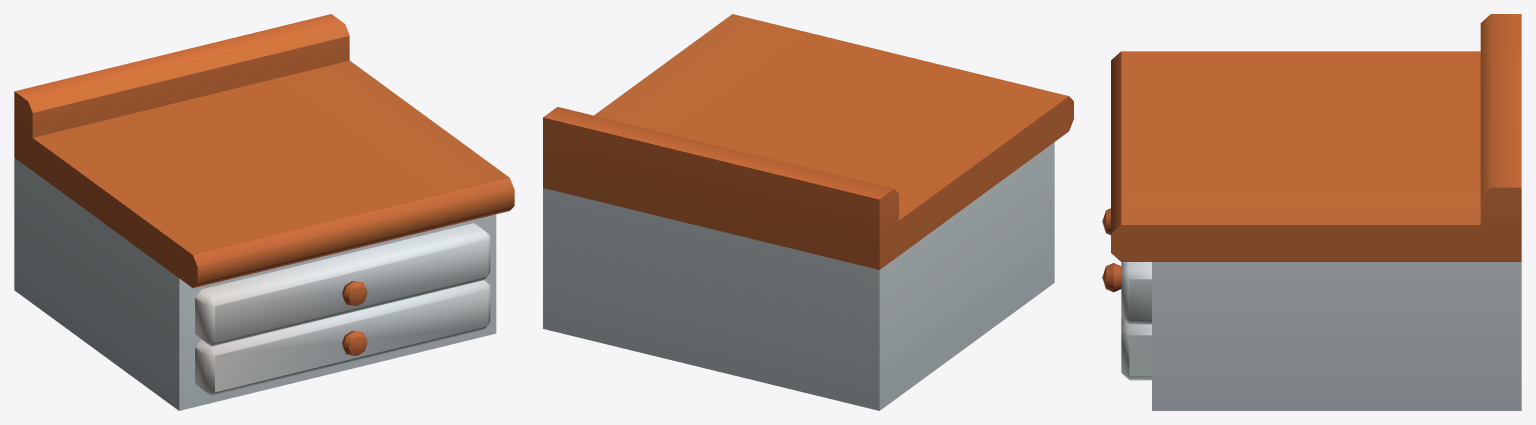
File: kkr.kitchencounter_straight_a_backsplash.glb
3 renders of one model, left to right at view 1: azimuth 30°, elevation 25°; view 2: azimuth 150°, elevation 25°; view 3: azimuth 270°, elevation 25°, orthographic. The views are drawn at different scales.
Parts seen in each view (by area): view 1: kitchencounter_straight_A_backsplash; view 2: kitchencounter_straight_A_backsplash; view 3: kitchencounter_straight_A_backsplash.
Part boxes in pixels (x1,y1,x2,y2): kitchencounter_straight_A_backsplash: [14, 14, 514, 410]; kitchencounter_straight_A_backsplash: [543, 14, 1073, 410]; kitchencounter_straight_A_backsplash: [1102, 14, 1521, 410].
Size of the model in its own units: 1.49 by 0.8941 by 1.52.
1 material, 1 textured.
